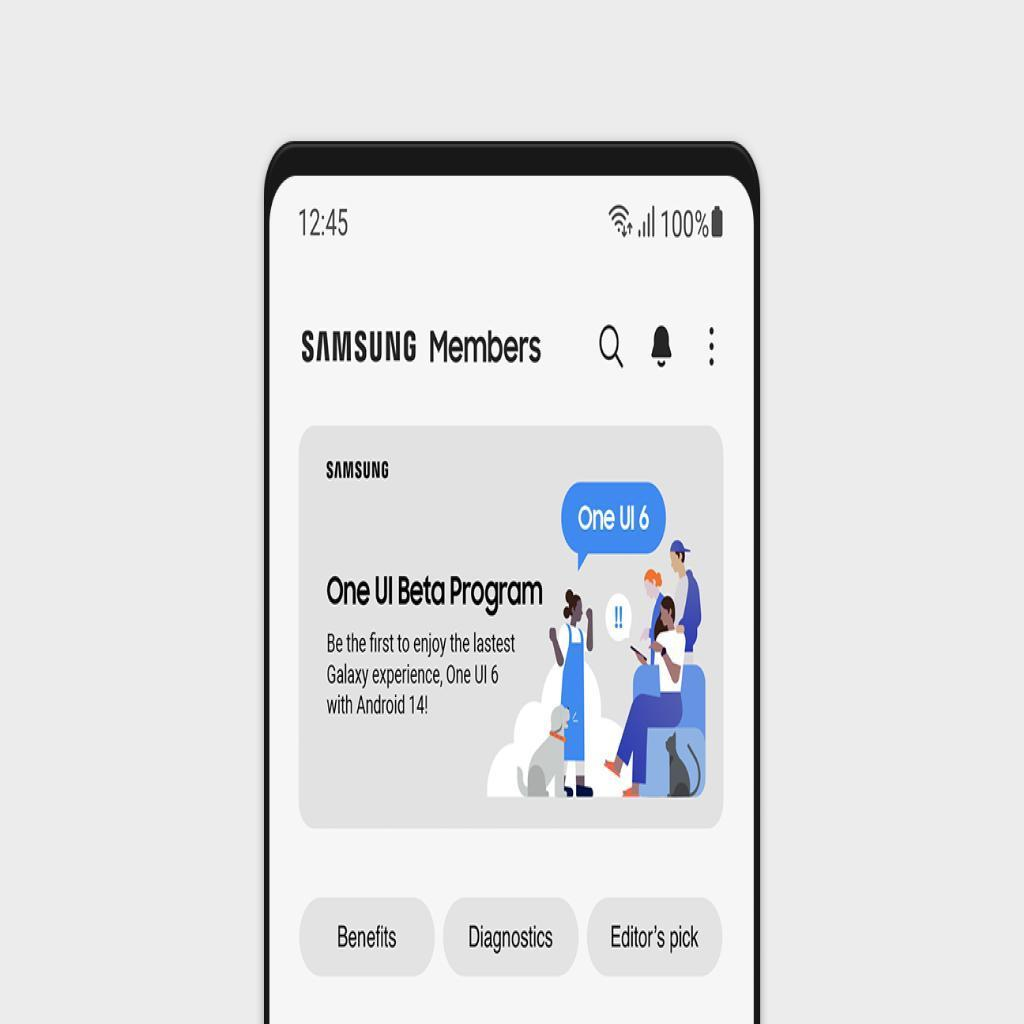button: (441, 896, 584, 978), (299, 896, 437, 975), (590, 900, 723, 977)
icon: (596, 318, 629, 371), (649, 320, 678, 370), (703, 323, 724, 373)
